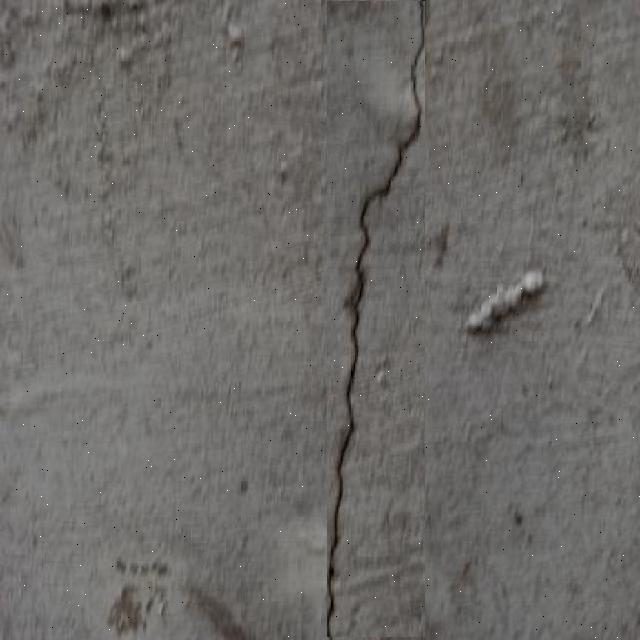crack: (320, 0, 431, 639), (347, 0, 432, 244), (74, 0, 143, 251), (104, 560, 270, 640), (2, 375, 131, 431)
